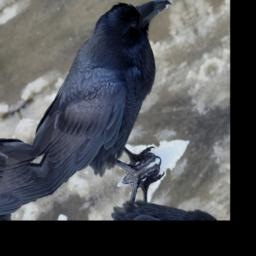Crow: (4, 0, 219, 219)
